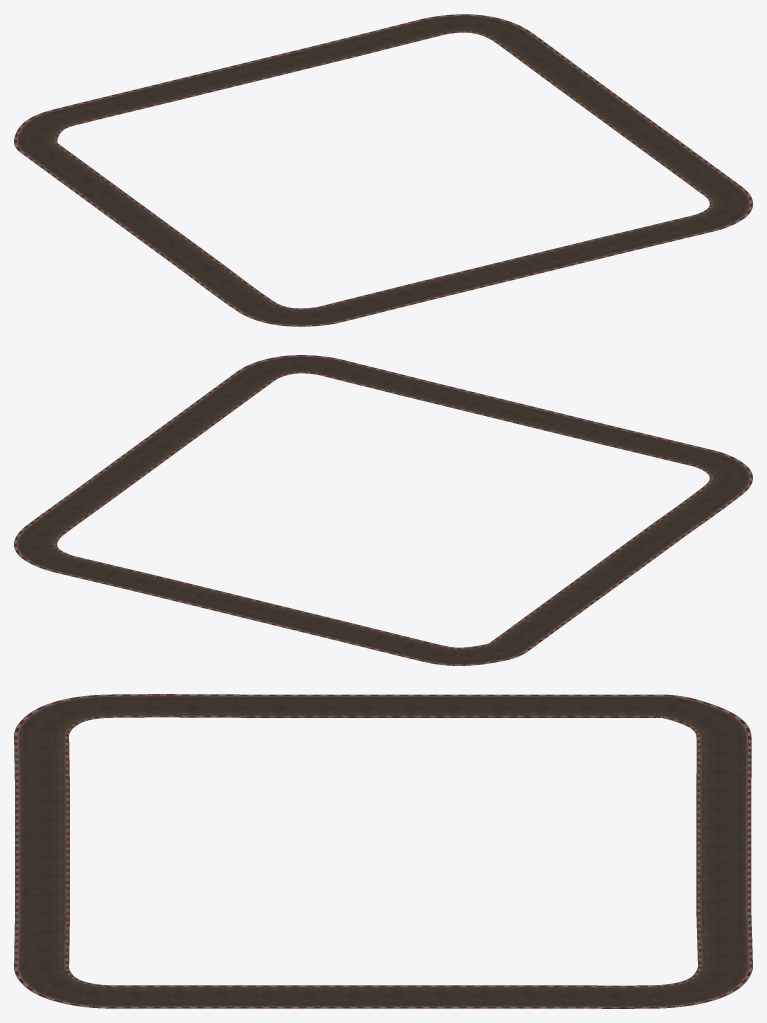
The model's file is Road 2.fbx.
The picture shows the model from 3 angles, top to bottom: view 1: azimuth 30°, elevation 25°; view 2: azimuth 150°, elevation 25°; view 3: azimuth 270°, elevation 25°; orthographic projection. The views are drawn at different scales.
Parts seen in each view (by area): view 1: Road_2; view 2: Road_2; view 3: Road_2.
Boxes of the visible parts, <box> form: Road_2: <box>14,14,752,326</box>; Road_2: <box>14,355,752,665</box>; Road_2: <box>14,694,752,1008</box>.
Bounding box in the file's own units: 54103 × 5 × 53700.
Materials: 1 (1 with a texture image).
